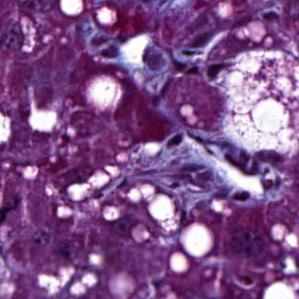ballooning: (217, 48, 296, 161)
